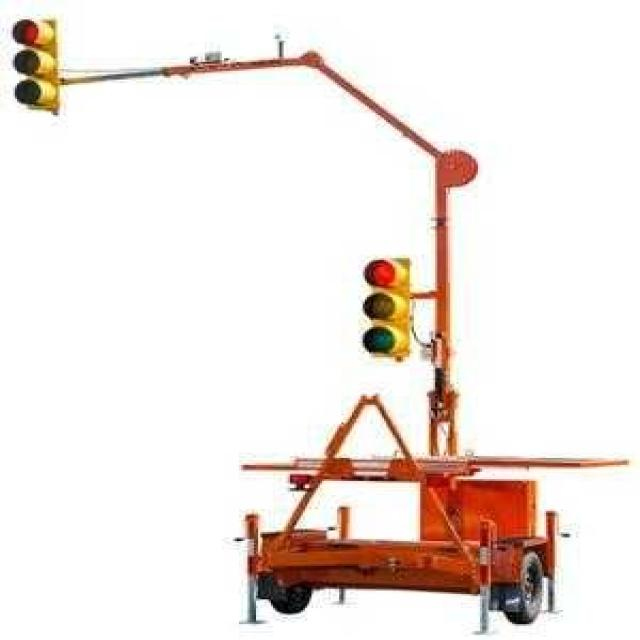Traffic Light -Red-: (356, 246, 414, 359), (6, 12, 64, 115)
